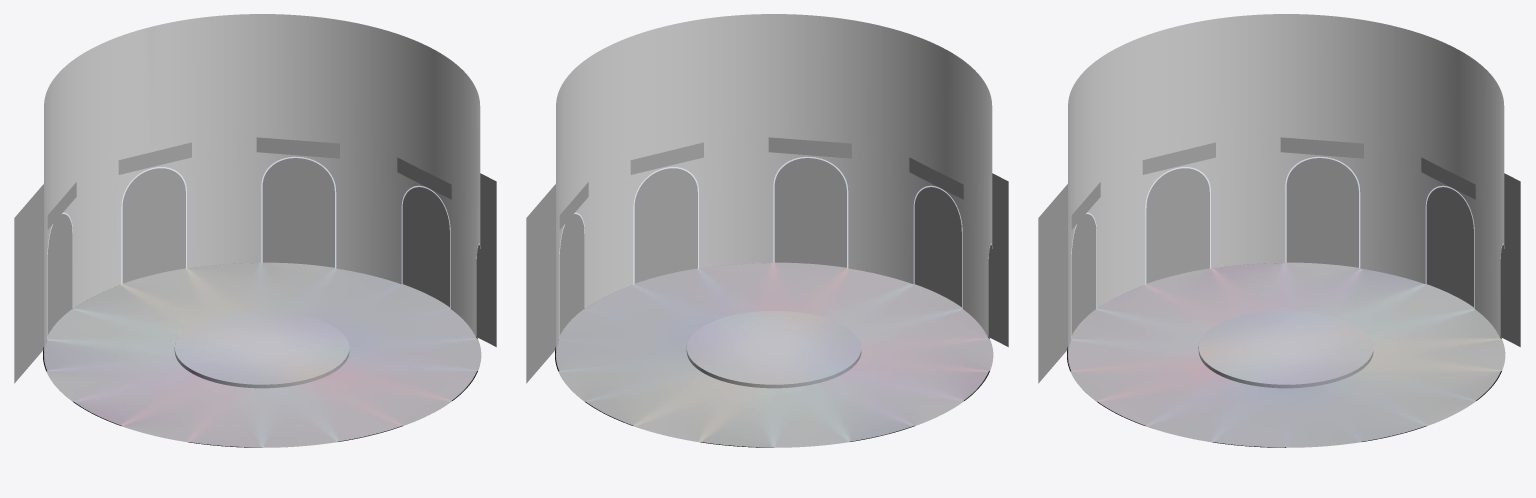
The model's file is hall_uncompressed.gltf.
3 views of the same model, side by side, from view 1: azimuth 30°, elevation 25°; view 2: azimuth 150°, elevation 25°; view 3: azimuth 270°, elevation 25° (orthographic).
Visible parts, largest first — view 1: FloorHall, WallsHall, WallsHall.001, WallsHall.009, PlatformHall, WallsHall.003, portal_preview_myspacism, portal_preview_tiktokko, portal_preview_wordpressism, portal_preview_rise_of_blogging, WallsHall.008, portal_text_wordpressism (+2 smaller); view 2: FloorHall, WallsHall.007, WallsHall.008, WallsHall.006, PlatformHall, WallsHall.009, portal_preview_twitt_art, portal_preview_myspacism, portal_preview_youtubism, portal_preview_facebook_art, WallsHall.005, portal_text_youtubism (+2 smaller); view 3: FloorHall, WallsHall.004, WallsHall.005, WallsHall.003, PlatformHall, WallsHall.006, portal_preview_tiktokko, portal_preview_twitt_art, portal_preview_twitch_art, portal_preview_instagraminism, WallsHall.001, portal_text_twitch (+2 smaller).
Part boxes in pixels (<box>): FloorHall: <box>43,262,481,447</box>; WallsHall: <box>223,14,370,274</box>; WallsHall.001: <box>94,15,223,295</box>; WallsHall.009: <box>370,26,466,322</box>; PlatformHall: <box>174,311,349,388</box>; WallsHall.003: <box>44,47,94,351</box>; portal_preview_myspacism: <box>402,173,496,346</box>; portal_preview_tiktokko: <box>14,184,72,383</box>; portal_preview_wordpressism: <box>262,158,334,267</box>; portal_preview_rise_of_blogging: <box>122,168,185,283</box>; WallsHall.008: <box>466,74,480,337</box>; portal_text_wordpressism: <box>256,137,339,158</box>; FloorHall: <box>555,262,993,447</box>; WallsHall.007: <box>735,14,882,274</box>; WallsHall.008: <box>606,15,735,295</box>; WallsHall.006: <box>882,26,978,322</box>; PlatformHall: <box>686,311,861,388</box>; WallsHall.009: <box>556,47,606,351</box>; portal_preview_twitt_art: <box>914,173,1008,346</box>; portal_preview_myspacism: <box>526,184,584,383</box>; portal_preview_youtubism: <box>774,158,846,267</box>; portal_preview_facebook_art: <box>634,168,697,283</box>; WallsHall.005: <box>978,74,992,337</box>; portal_text_youtubism: <box>768,137,851,158</box>; FloorHall: <box>1067,262,1505,447</box>; WallsHall.004: <box>1247,14,1394,274</box>; WallsHall.005: <box>1118,15,1247,295</box>; WallsHall.003: <box>1394,26,1490,322</box>; PlatformHall: <box>1198,311,1373,388</box>; WallsHall.006: <box>1068,47,1118,351</box>; portal_preview_tiktokko: <box>1426,173,1520,346</box>; portal_preview_twitt_art: <box>1038,184,1096,383</box>; portal_preview_twitch_art: <box>1286,158,1358,267</box>; portal_preview_instagraminism: <box>1146,168,1209,283</box>; WallsHall.001: <box>1491,75,1504,337</box>; portal_text_twitch: <box>1280,137,1363,158</box>.
Size of the model in its own units: 22.49 by 13.89 by 22.18.
